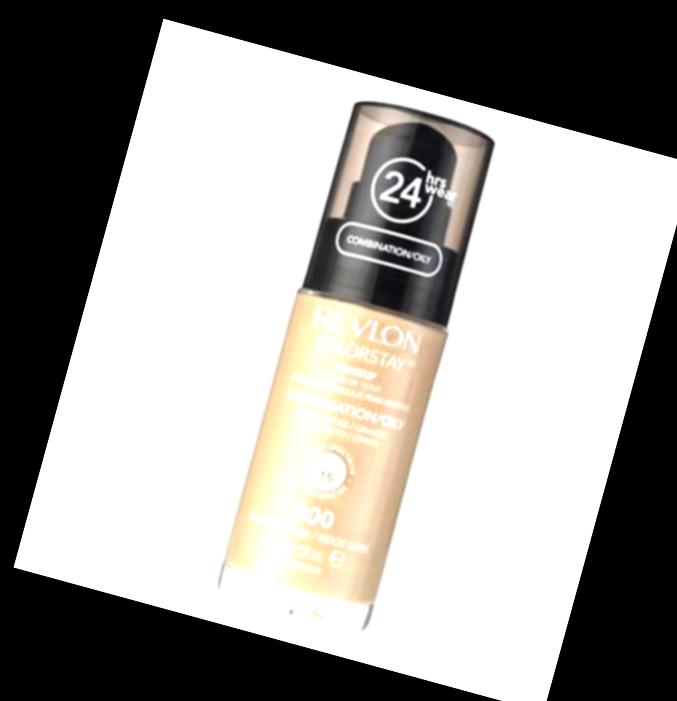cosmetic: (214, 92, 505, 632)
